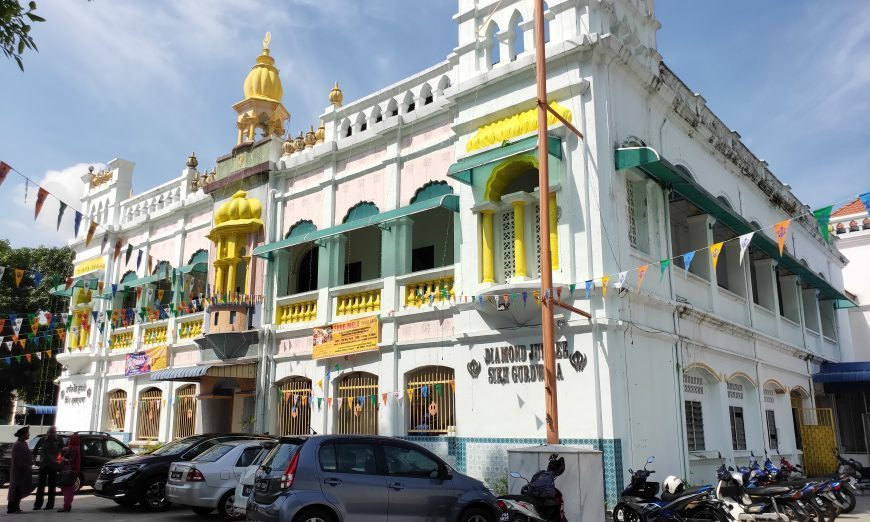Gurdwara: (53, 6, 692, 412)
